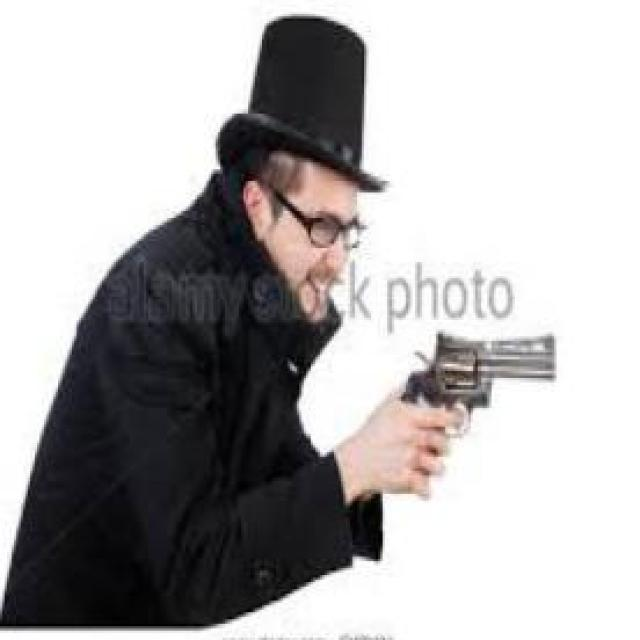pistol: (392, 308, 567, 512)
